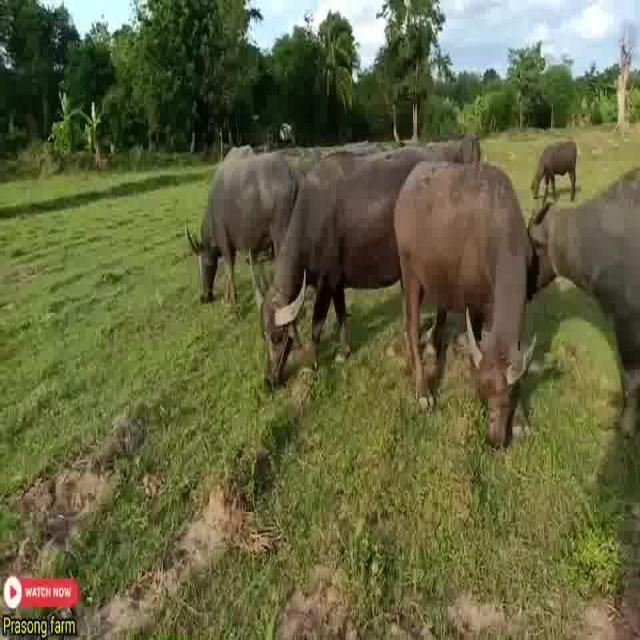buffalo: (188, 162, 342, 290)
